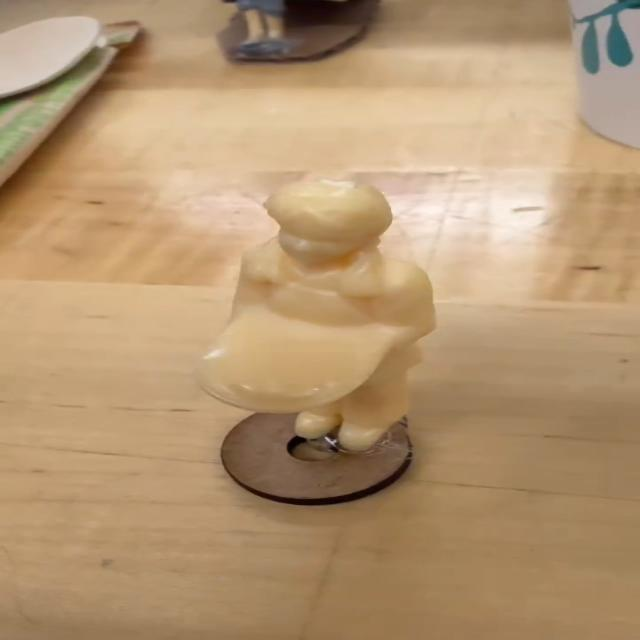Unauthorized: (170, 157, 480, 484)
